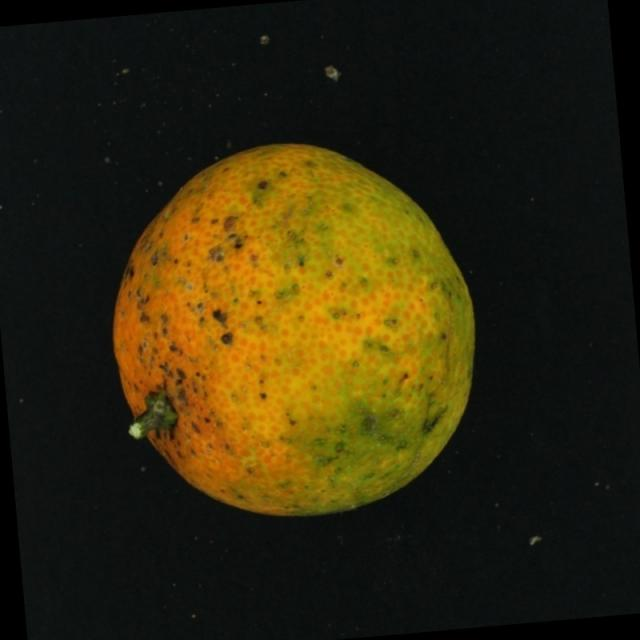grenning: (88, 146, 503, 543)
